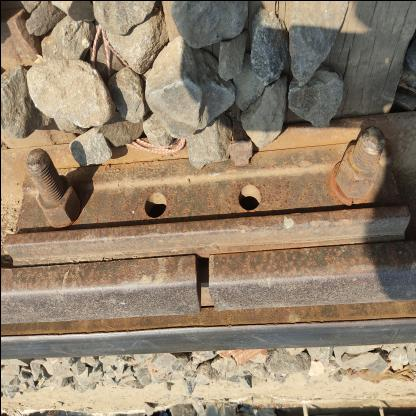Defective 2: (170, 210, 232, 322)
Defective 3: (3, 118, 413, 264)
